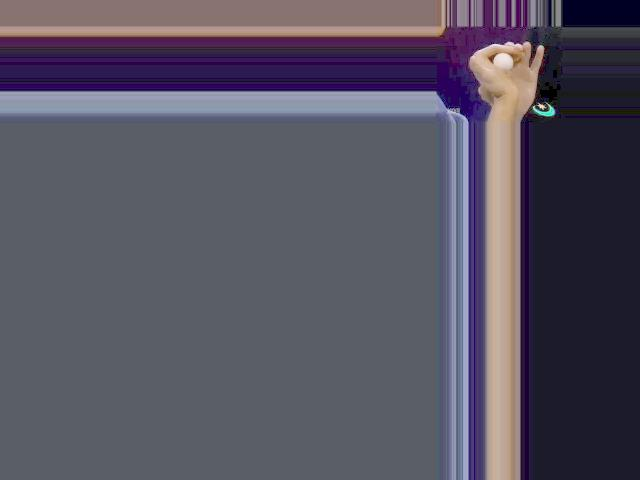egg: (492, 52, 513, 68)
